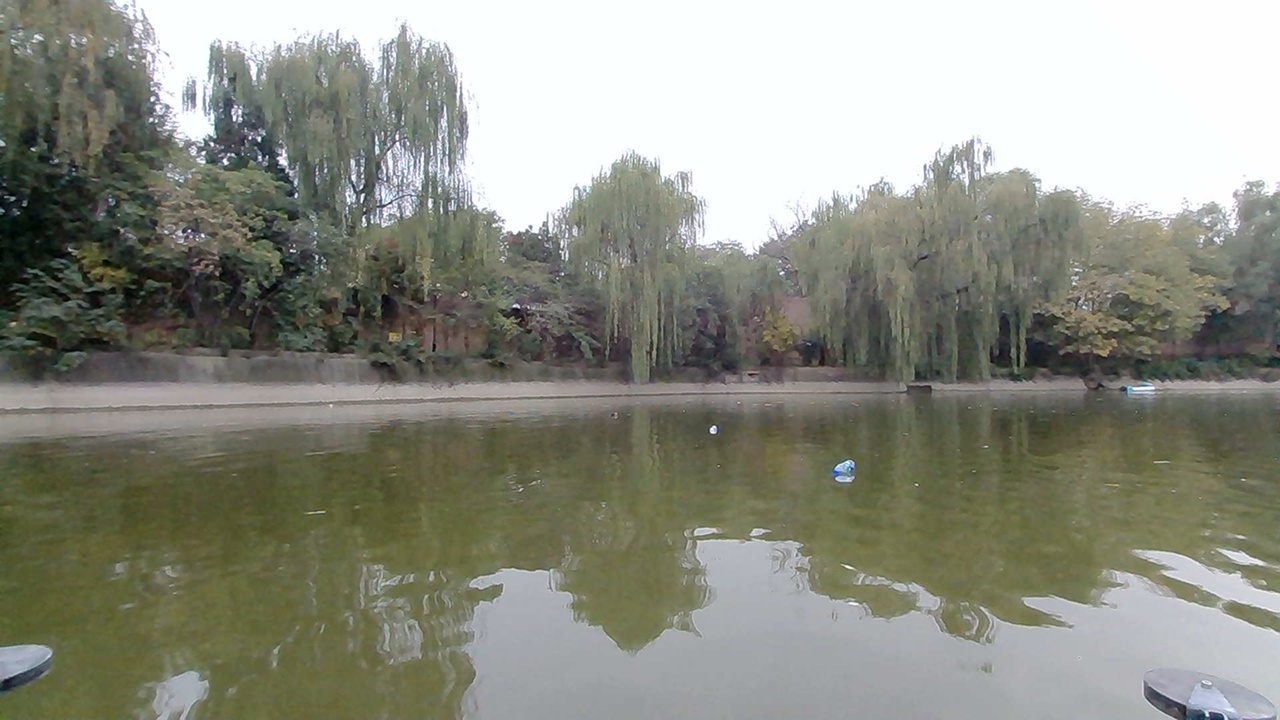bottle: (818, 450, 874, 487), (688, 419, 732, 449), (601, 406, 635, 428)
